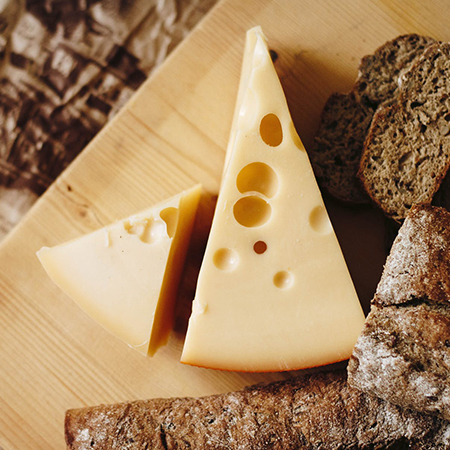cheese: (189, 19, 377, 374), (33, 183, 211, 366)
